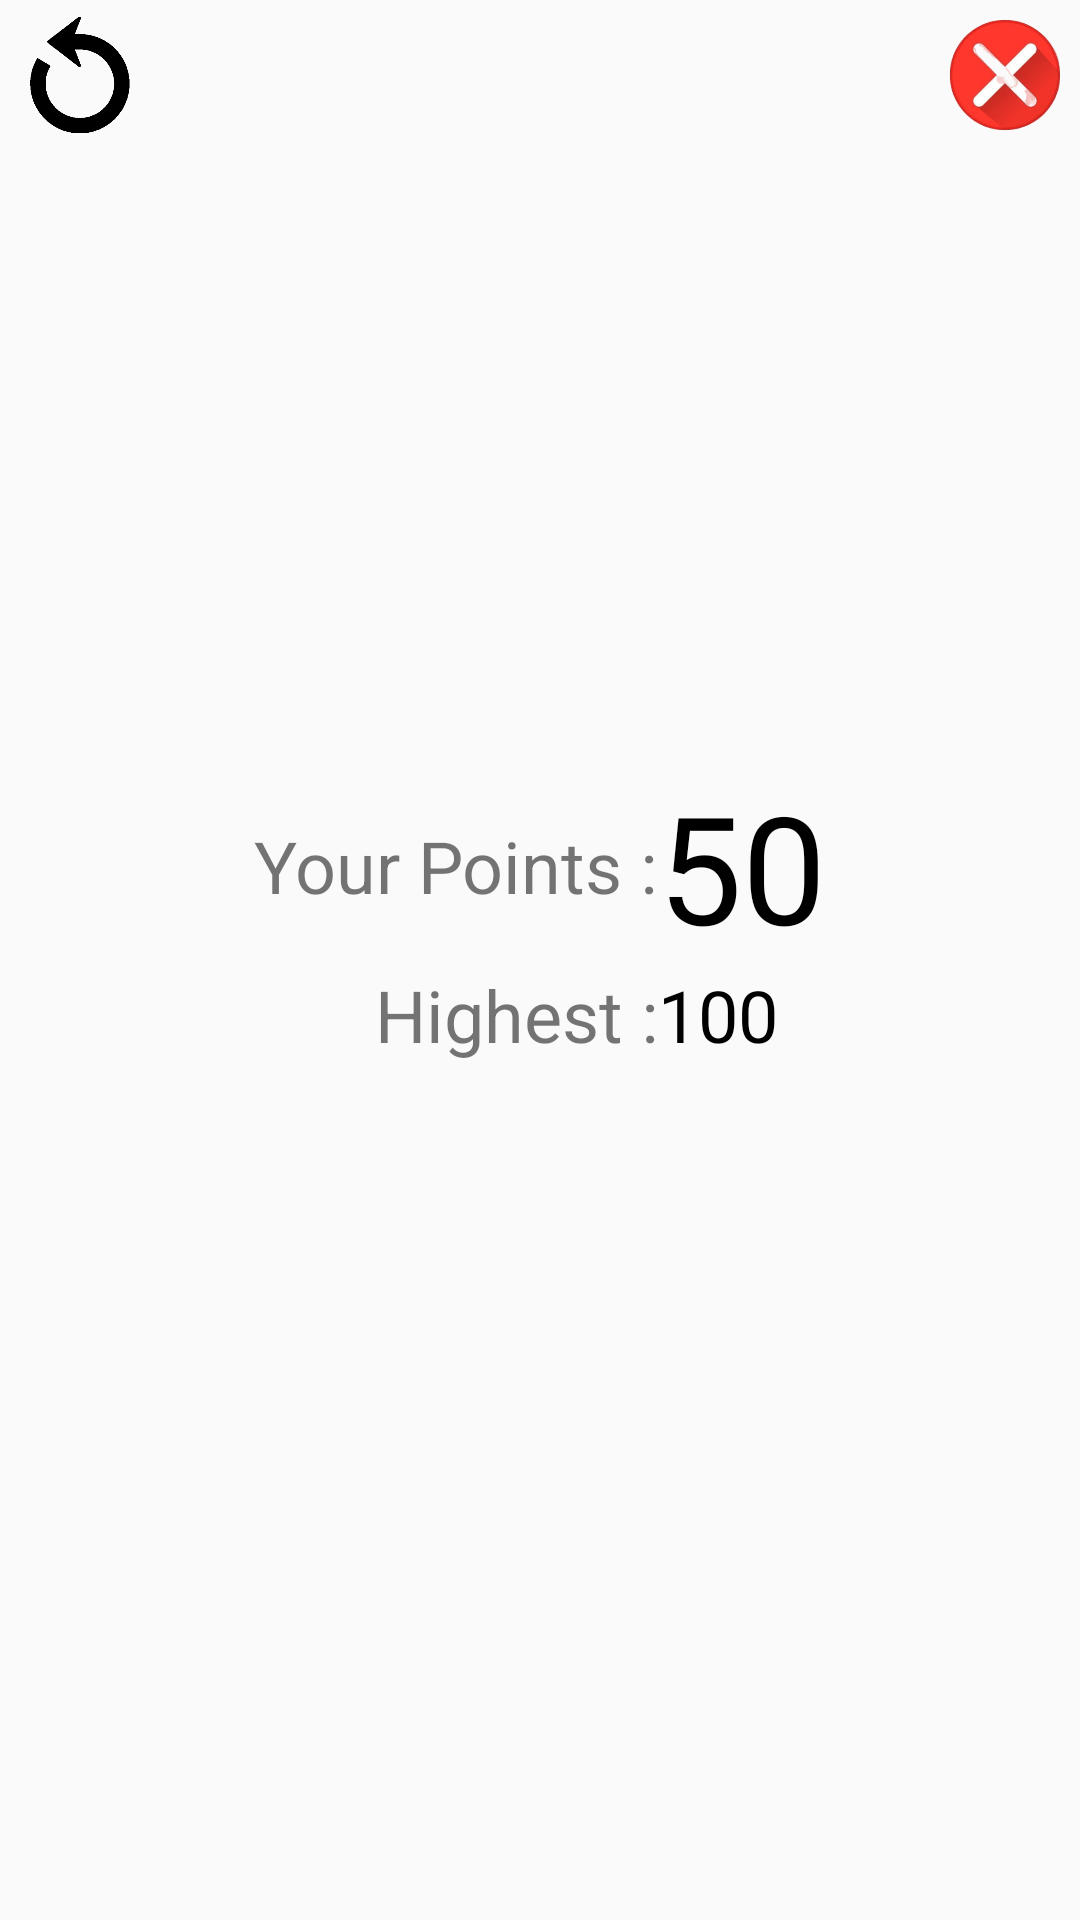

Point at icon controls on the screen. Image size 1080px×1920px, points as (x=x, y=y).
exit: (x=1005, y=75)
replay: (x=80, y=75)
